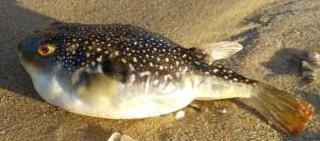fish: (19, 22, 313, 132)
